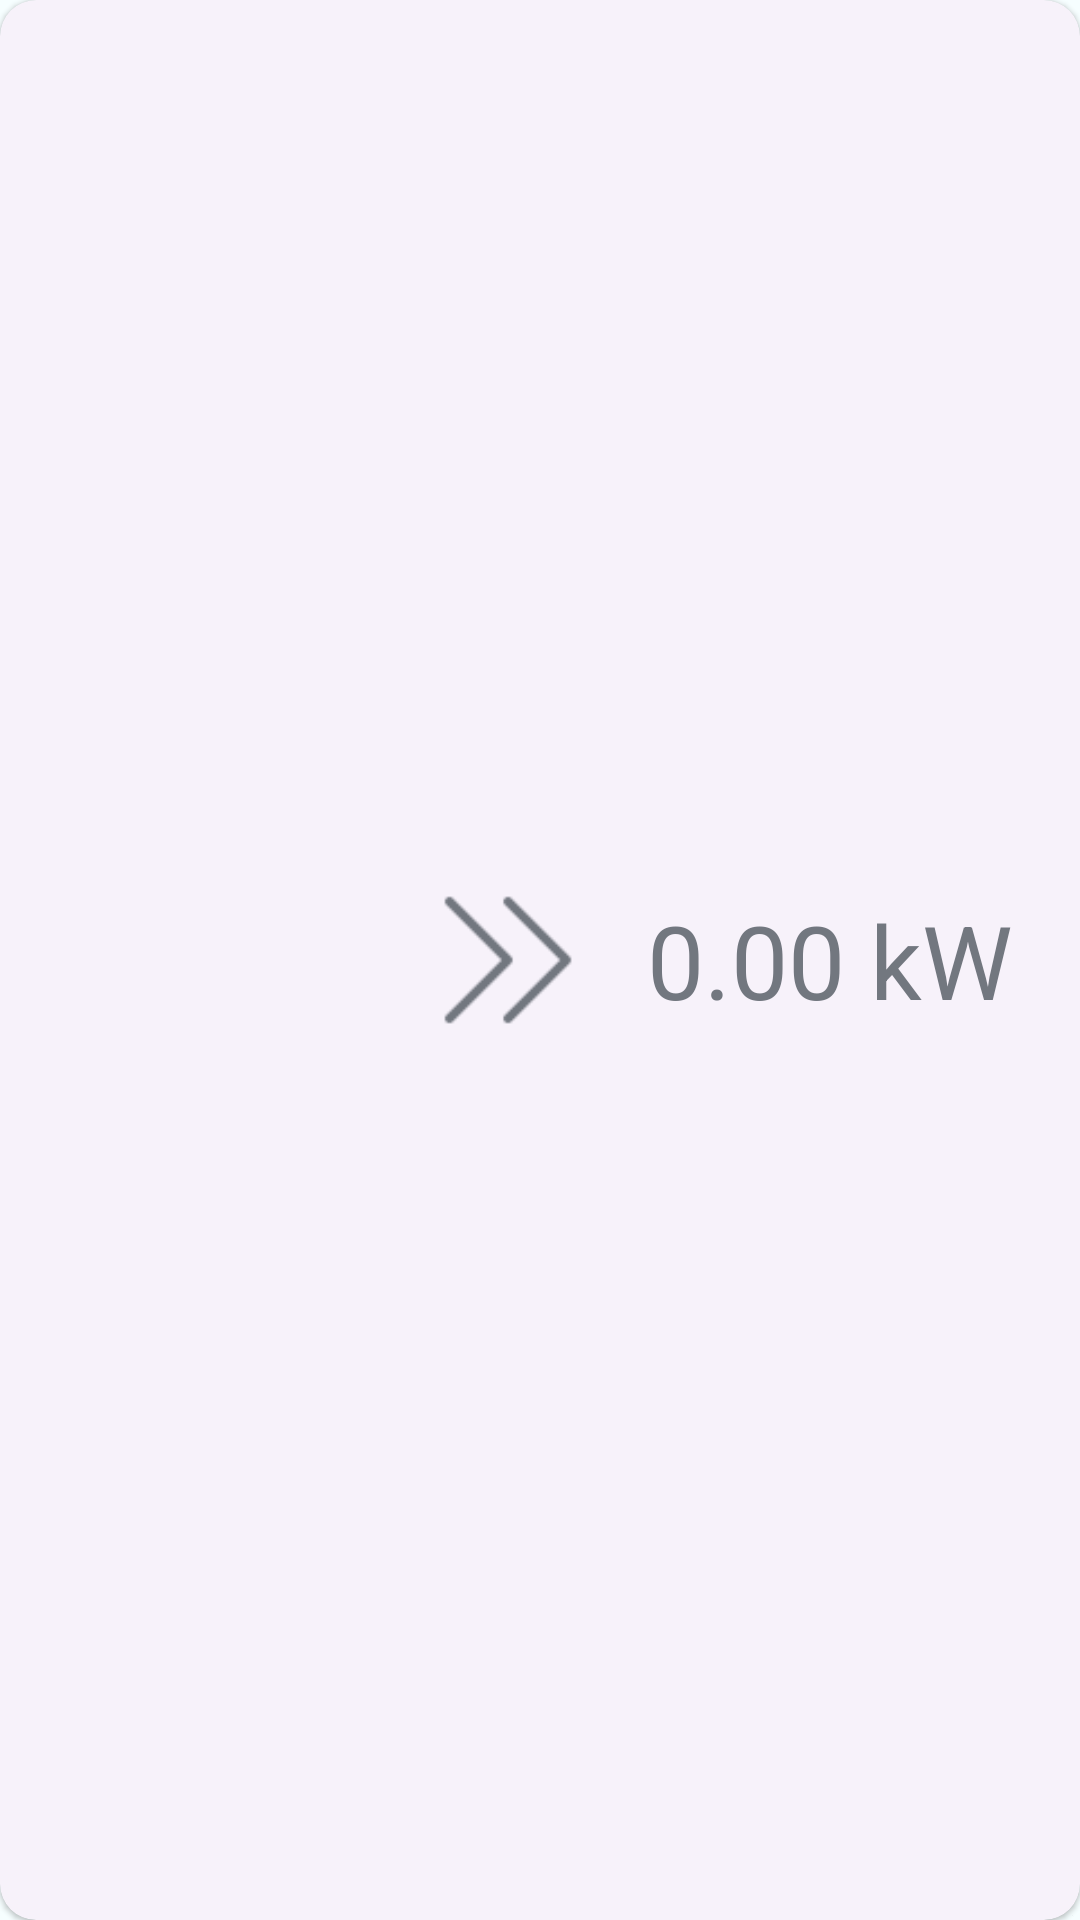

Screen size 1080px×1920px. Icon name, then its center in pixels as (x,y):
flow out: (508,960)
